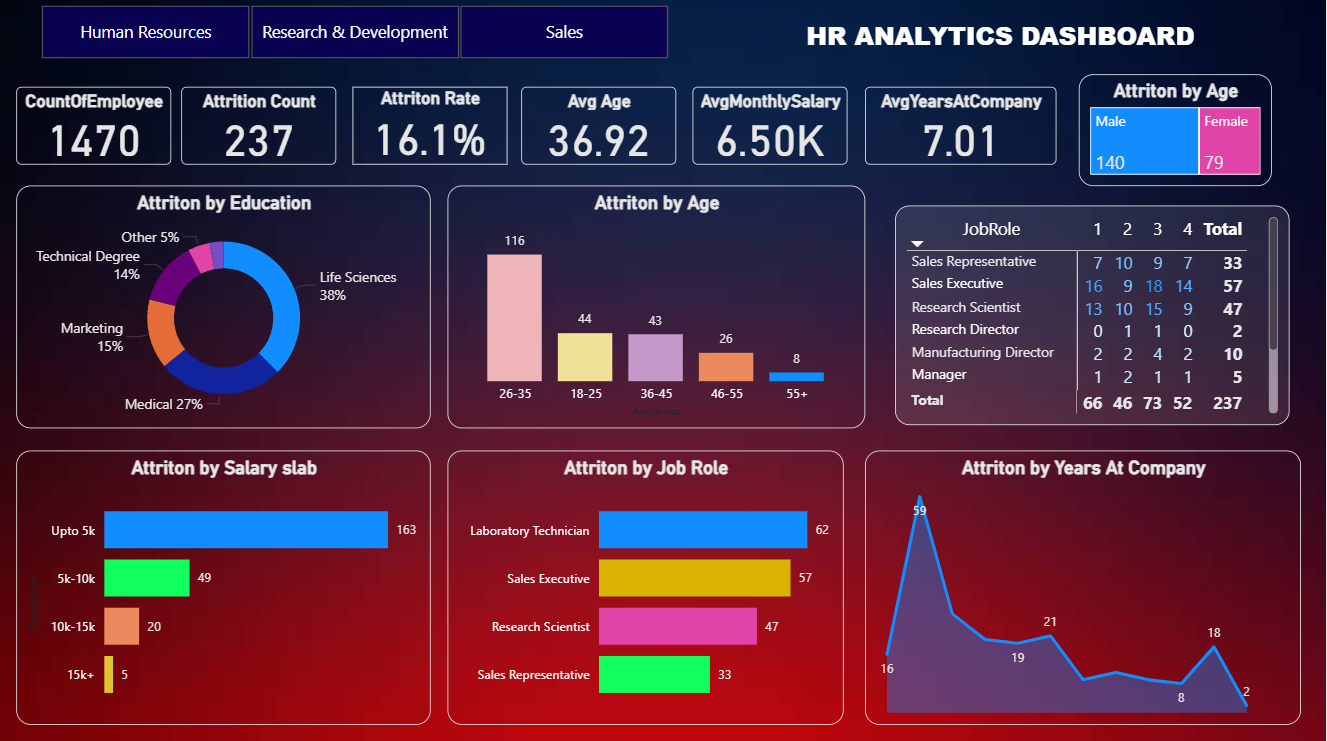

The dashboard page shown, as its layout file describes it:
{"tool":"powerbi","page":{"name":"Page 1","canvas":[1280,720],"ordinal":0},"visuals":[{"type":"card","title":"CountOfEmployee","fields":{"Values":["CountNonNull(HR_Analytics.EmpID)"]},"box":[16.1,85.1,149.4,75.5],"z":0},{"type":"card","title":"Attriton Rate","fields":{"Values":["HR_Analytics.AttritionRate"]},"box":[340.5,85.1,149.4,75.5],"z":1000},{"type":"card","title":"Avg Age","fields":{"Values":["Avg(HR_Analytics.Age)"]},"box":[502.7,85.1,149.4,75.5],"z":2000},{"type":"card","title":"Attrition Count","fields":{"Values":["Sum(HR_Analytics.AttritonCount)"]},"box":[175.1,85.1,149.4,75.5],"z":3000},{"type":"card","title":"AvgYearsAtCompany","fields":{"Values":["Avg(HR_Analytics.YearsAtCompany)"]},"box":[835.1,85.1,184.7,75.5],"z":4000},{"type":"card","title":"AvgMonthlySalary","fields":{"Values":["Avg(HR_Analytics.MonthlyIncome)"]},"box":[668.1,85.1,149.4,75.5],"z":5000},{"type":"donutChart","title":"Attriton by Education","fields":{"Category":["HR_Analytics.EducationField"],"Y":["Sum(HR_Analytics.AttritonCount)"]},"box":[16.1,181.5,399.9,234.5],"z":6000},{"type":"columnChart","title":"Attriton by Age","fields":{"Category":["HR_Analytics.AgeGroup"],"Y":["Sum(HR_Analytics.AttritonCount)"]},"box":[432,181.5,403.1,234.5],"z":7000},{"type":"pivotTable","fields":{"Rows":["HR_Analytics.JobRole"],"Columns":["HR_Analytics.JobSatisfaction"],"Values":["Sum(HR_Analytics.AttritonCount)"]},"box":[864,200.8,380.6,211.7],"z":8000},{"type":"barChart","title":"Attriton by Salary slab","fields":{"Category":["HR_Analytics.SalarySlab"],"Y":["Sum(HR_Analytics.AttritonCount)"]},"box":[16.1,436.8,399.9,265],"z":9000},{"type":"barChart","title":"Attriton by Job Role","fields":{"Category":["HR_Analytics.JobRole"],"Y":["Sum(HR_Analytics.AttritonCount)"]},"box":[432,436.8,382.2,265],"z":10000},{"type":"areaChart","title":"Attriton by Years At Company","fields":{"Category":["HR_Analytics.YearsAtCompany"],"Y":["Sum(HR_Analytics.AttritonCount)"]},"box":[835.1,436.8,420.8,265],"z":11000},{"type":"treemap","title":"Attriton by Age","fields":{"Group":["HR_Analytics.Gender"],"Values":["Sum(HR_Analytics.AttritonCount)"]},"box":[1040.7,73.9,186.3,107.6],"z":12000},{"type":"slicer","fields":{"Values":["HR_Analytics.Department"]},"box":[16.1,1.6,652,62.6],"z":13000},{"type":"textbox","box":[767.9,15,391.4,48.9],"z":14000}]}

Visuals, with their boxes in screenshot pixels (x1, y1, x2, y2), scaled from the page's 1280x720 canvas onto the 1327x741 screenshot:
"CountOfEmployee" card: (left=17, top=88, right=172, bottom=165)
"Attriton Rate" card: (left=353, top=88, right=508, bottom=165)
"Avg Age" card: (left=521, top=88, right=676, bottom=165)
"Attrition Count" card: (left=182, top=88, right=336, bottom=165)
"AvgYearsAtCompany" card: (left=866, top=88, right=1057, bottom=165)
"AvgMonthlySalary" card: (left=693, top=88, right=848, bottom=165)
"Attriton by Education" donutChart: (left=17, top=187, right=431, bottom=428)
"Attriton by Age" columnChart: (left=448, top=187, right=866, bottom=428)
pivotTable - HR_Analytics.JobRole x HR_Analytics.JobSatisfaction: (left=896, top=207, right=1290, bottom=425)
"Attriton by Salary slab" barChart: (left=17, top=450, right=431, bottom=722)
"Attriton by Job Role" barChart: (left=448, top=450, right=844, bottom=722)
"Attriton by Years At Company" areaChart: (left=866, top=450, right=1302, bottom=722)
"Attriton by Age" treemap: (left=1079, top=76, right=1272, bottom=187)
slicer - HR_Analytics.Department: (left=17, top=2, right=693, bottom=66)
textbox: (left=796, top=15, right=1202, bottom=66)
